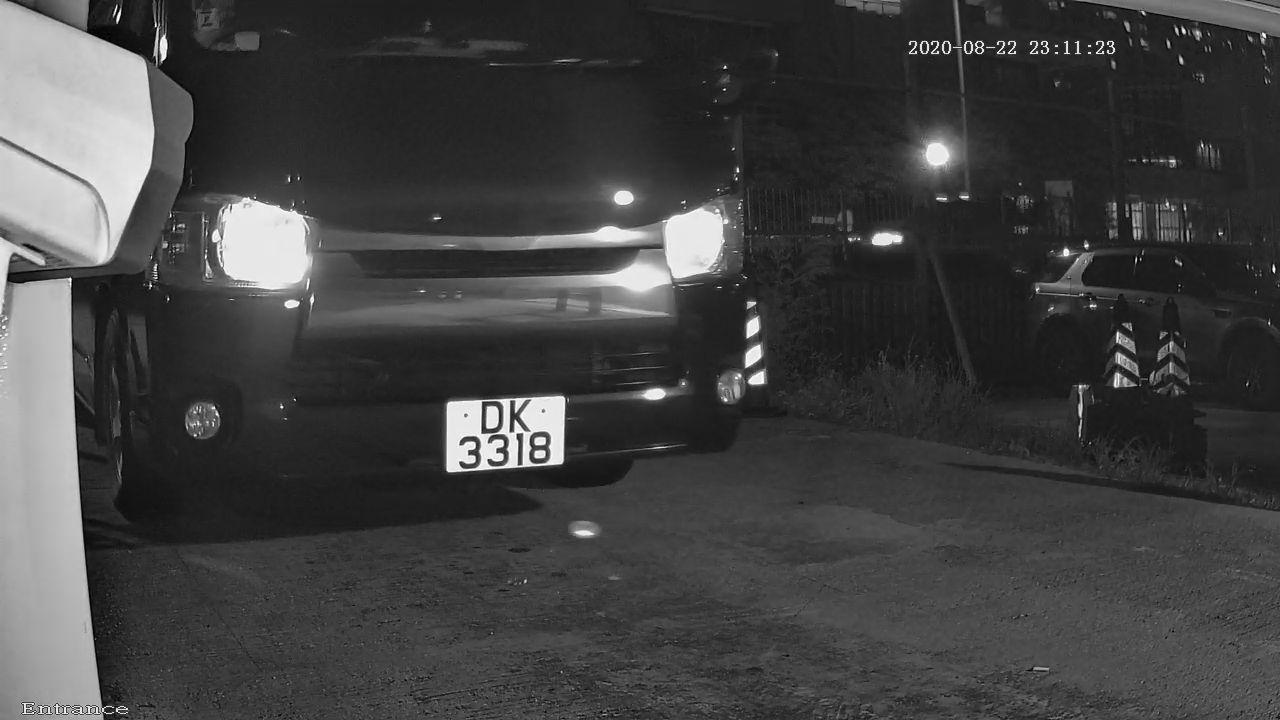Car: (1, 1, 898, 582)
License Plate: (429, 393, 578, 479)
